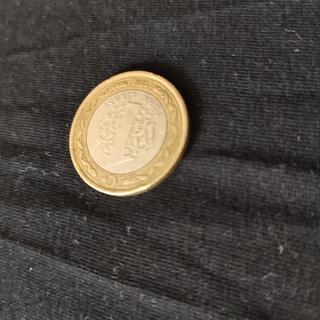1TL: (66, 68, 192, 199)
